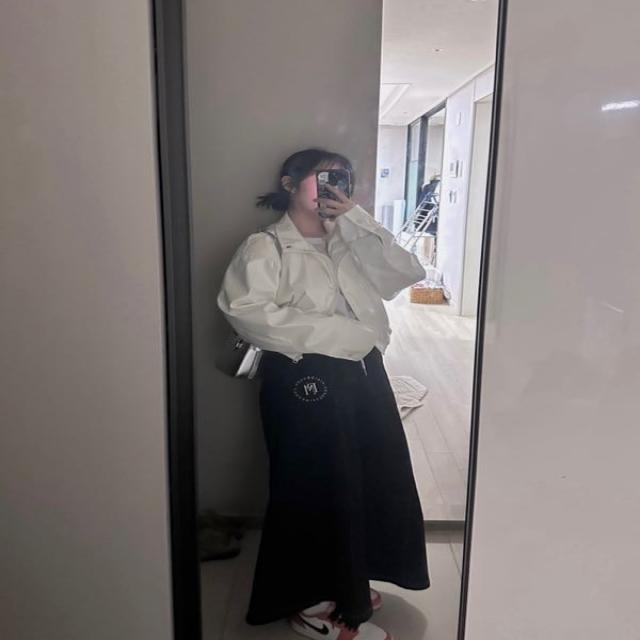jacket: (219, 208, 428, 363)
skirt: (247, 345, 432, 628)
